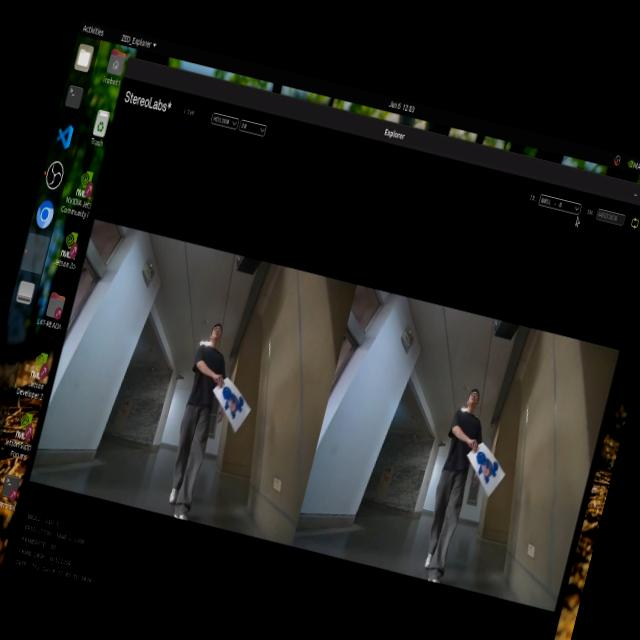blue: (205, 379, 261, 436), (468, 441, 516, 496)
